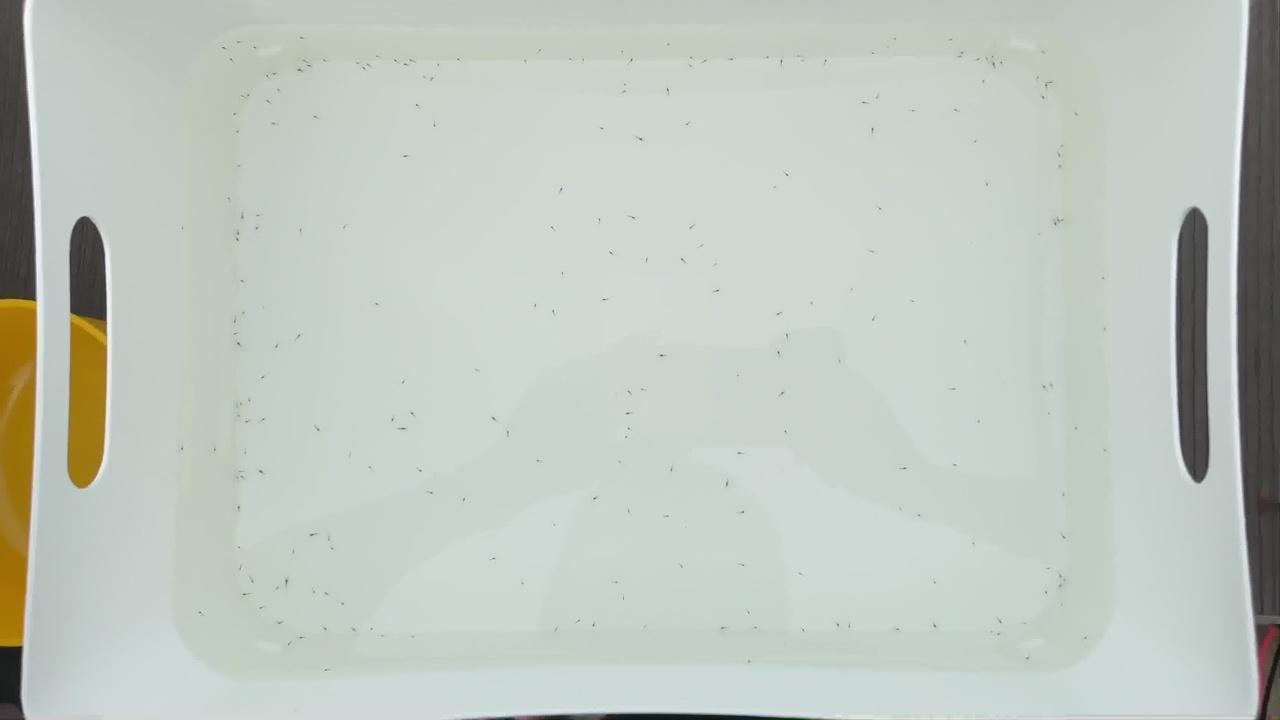shrimp: (993, 617, 1006, 625), (1051, 584, 1064, 592), (1058, 578, 1071, 586), (896, 467, 909, 475), (929, 578, 942, 586), (931, 622, 944, 630), (843, 622, 856, 630), (721, 478, 734, 486), (805, 301, 818, 309), (834, 356, 847, 364), (909, 296, 922, 304), (971, 412, 984, 420), (1034, 91, 1047, 99), (980, 57, 993, 65), (976, 74, 989, 82), (951, 107, 964, 115), (728, 52, 741, 60), (685, 63, 698, 71), (620, 79, 633, 87), (681, 118, 694, 126), (548, 523, 561, 531), (661, 512, 674, 520), (711, 285, 724, 293), (593, 218, 606, 226), (600, 296, 613, 304), (387, 412, 400, 420), (345, 451, 358, 459), (270, 583, 283, 591), (296, 633, 309, 641), (234, 340, 247, 348), (236, 124, 249, 132), (250, 41, 263, 49), (319, 57, 332, 65), (298, 57, 311, 65), (311, 113, 324, 121), (402, 152, 415, 160), (427, 79, 440, 87), (456, 58, 469, 66), (439, 63, 452, 71), (1061, 489, 1073, 497), (895, 506, 907, 514), (734, 451, 746, 459), (983, 52, 995, 60), (490, 556, 502, 564), (657, 351, 669, 359), (535, 456, 547, 464), (253, 467, 265, 475), (258, 418, 270, 426), (225, 58, 237, 66), (413, 107, 425, 115), (418, 74, 430, 82), (1079, 638, 1092, 645), (1020, 659, 1033, 666), (1019, 621, 1032, 628), (985, 628, 998, 635), (1040, 591, 1053, 598), (1040, 567, 1053, 574), (1060, 535, 1073, 542), (915, 511, 928, 518), (949, 465, 962, 472), (893, 625, 906, 632), (831, 621, 844, 628), (798, 625, 811, 632), (741, 657, 754, 664), (750, 624, 763, 631), (742, 609, 755, 616), (736, 563, 749, 570), (795, 571, 808, 578), (674, 565, 687, 572), (737, 511, 750, 518), (780, 428, 793, 435), (775, 388, 788, 395), (775, 348, 788, 355), (782, 331, 795, 338), (868, 318, 881, 325), (848, 287, 861, 294), (866, 247, 879, 254), (874, 208, 887, 215), (958, 401, 971, 408), (948, 385, 961, 392), (1040, 385, 1053, 392), (1050, 380, 1063, 387), (1099, 276, 1112, 283), (1096, 332, 1109, 339), (1099, 444, 1112, 451), (1047, 219, 1060, 226), (981, 185, 994, 192), (1054, 166, 1067, 173), (1052, 153, 1065, 160), (1034, 46, 1047, 53), (1029, 78, 1042, 85), (997, 59, 1010, 66), (987, 61, 1000, 68), (967, 56, 980, 63), (954, 51, 967, 58), (954, 55, 967, 62), (971, 137, 984, 144), (906, 106, 919, 113), (864, 97, 877, 104), (860, 101, 873, 108), (863, 125, 876, 132), (872, 96, 885, 103), (870, 52, 883, 59), (821, 61, 834, 68), (798, 57, 811, 64), (762, 55, 775, 62), (688, 57, 701, 64), (662, 45, 675, 52), (628, 55, 641, 62), (579, 57, 592, 64), (566, 57, 579, 64), (515, 57, 528, 64), (619, 92, 632, 99), (592, 125, 605, 132), (662, 90, 675, 97), (783, 171, 796, 178), (640, 624, 653, 631), (619, 597, 632, 604), (611, 581, 624, 588), (591, 622, 604, 629), (621, 508, 634, 515), (665, 469, 678, 476), (615, 457, 628, 464), (622, 436, 635, 443), (625, 425, 638, 432), (624, 391, 637, 398), (638, 387, 651, 394), (710, 262, 723, 269), (677, 256, 690, 263), (643, 256, 656, 263), (628, 212, 641, 219), (603, 249, 616, 256), (537, 306, 550, 313), (549, 309, 562, 316), (557, 270, 570, 277), (547, 225, 560, 232), (554, 186, 567, 193), (456, 496, 469, 503), (502, 431, 515, 438), (484, 411, 497, 418), (470, 366, 483, 373), (412, 463, 425, 470), (425, 487, 438, 494), (364, 463, 377, 470), (310, 425, 323, 432), (206, 447, 219, 454), (175, 444, 188, 451), (239, 449, 252, 456), (231, 479, 244, 486), (238, 475, 251, 482), (234, 500, 247, 507), (322, 533, 335, 540), (326, 544, 339, 551), (305, 533, 318, 540), (287, 547, 300, 554), (282, 577, 295, 584), (258, 603, 271, 610), (240, 588, 253, 595), (249, 574, 262, 581), (233, 565, 246, 572), (237, 546, 250, 553), (195, 609, 208, 616), (318, 623, 331, 630), (363, 624, 376, 631), (379, 629, 392, 636), (338, 601, 351, 608), (306, 589, 319, 596), (243, 417, 256, 424), (234, 409, 247, 416), (231, 403, 244, 410), (236, 403, 249, 410), (259, 369, 272, 376), (272, 343, 285, 350), (293, 333, 306, 340), (372, 303, 385, 310), (231, 328, 244, 335), (228, 317, 241, 324), (232, 240, 245, 247), (232, 230, 245, 237), (236, 215, 249, 222), (250, 211, 263, 218), (295, 228, 308, 235), (236, 162, 249, 169), (230, 109, 243, 116), (238, 94, 251, 101), (242, 94, 255, 101), (214, 44, 227, 51), (234, 35, 247, 42), (296, 36, 309, 43), (302, 64, 315, 71), (293, 67, 306, 74), (271, 70, 284, 77), (259, 74, 272, 81), (270, 119, 283, 126), (401, 62, 414, 69), (389, 57, 402, 64), (371, 56, 384, 63), (365, 60, 378, 67), (361, 66, 374, 73), (351, 60, 364, 67), (994, 631, 1006, 638), (1050, 570, 1062, 577), (967, 539, 979, 546), (718, 626, 730, 633), (773, 312, 785, 319), (961, 343, 973, 350), (1072, 424, 1084, 431), (1056, 216, 1068, 223), (1055, 144, 1067, 151), (1072, 113, 1084, 120), (1039, 83, 1051, 90), (1044, 76, 1056, 83), (945, 38, 957, 45), (795, 52, 807, 59), (778, 60, 790, 67), (701, 56, 713, 63), (618, 48, 630, 55), (535, 49, 547, 56), (634, 137, 646, 144), (573, 616, 585, 623), (552, 624, 564, 631), (518, 577, 530, 584), (590, 494, 602, 501), (624, 411, 636, 418), (696, 243, 708, 250), (685, 226, 697, 233), (529, 301, 541, 308), (397, 378, 409, 385), (408, 409, 420, 416), (397, 424, 409, 431), (236, 469, 248, 476), (274, 617, 286, 624), (285, 643, 297, 650), (319, 666, 331, 673), (347, 626, 359, 633), (319, 588, 331, 595), (247, 398, 259, 405), (241, 311, 253, 318), (241, 275, 253, 282), (253, 225, 265, 232), (341, 221, 353, 228), (275, 87, 287, 94), (264, 101, 276, 108), (429, 123, 441, 130), (407, 59, 419, 66)
